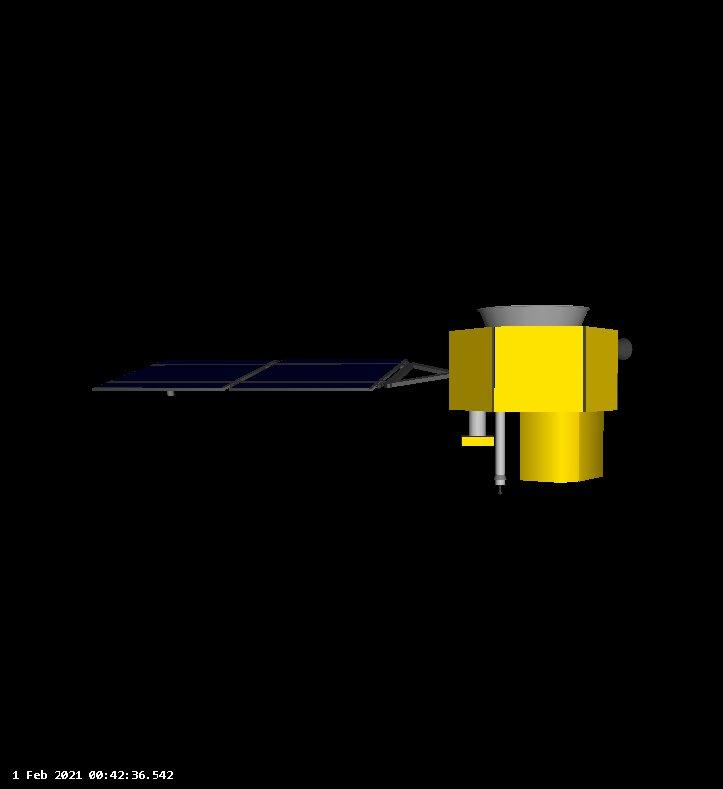antenna: (491, 407, 509, 497), (463, 408, 494, 447)
body: (443, 325, 625, 487)
solar: (88, 358, 413, 398)
thruster: (473, 301, 594, 328), (613, 336, 637, 364)
